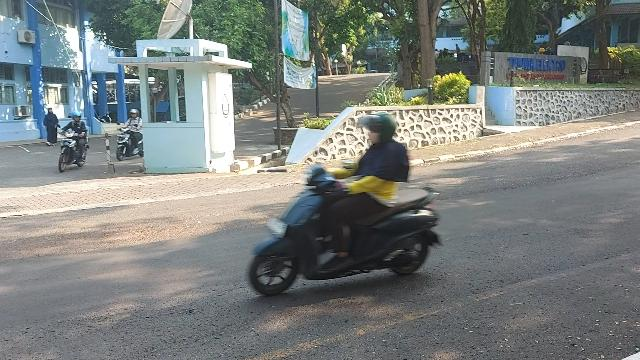helm: (358, 114, 396, 145), (72, 112, 82, 123), (131, 110, 140, 119)
motor: (251, 163, 443, 295), (58, 125, 91, 174), (118, 124, 145, 162)
